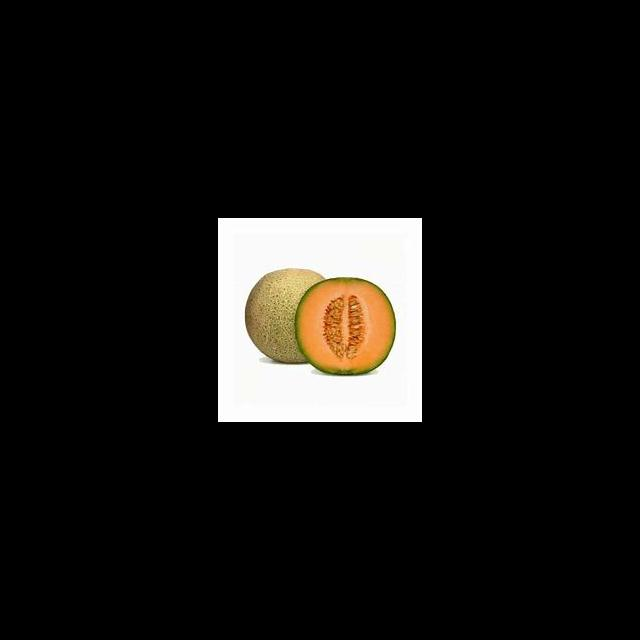Hami Melon: (295, 278, 396, 375), (247, 269, 328, 365)
